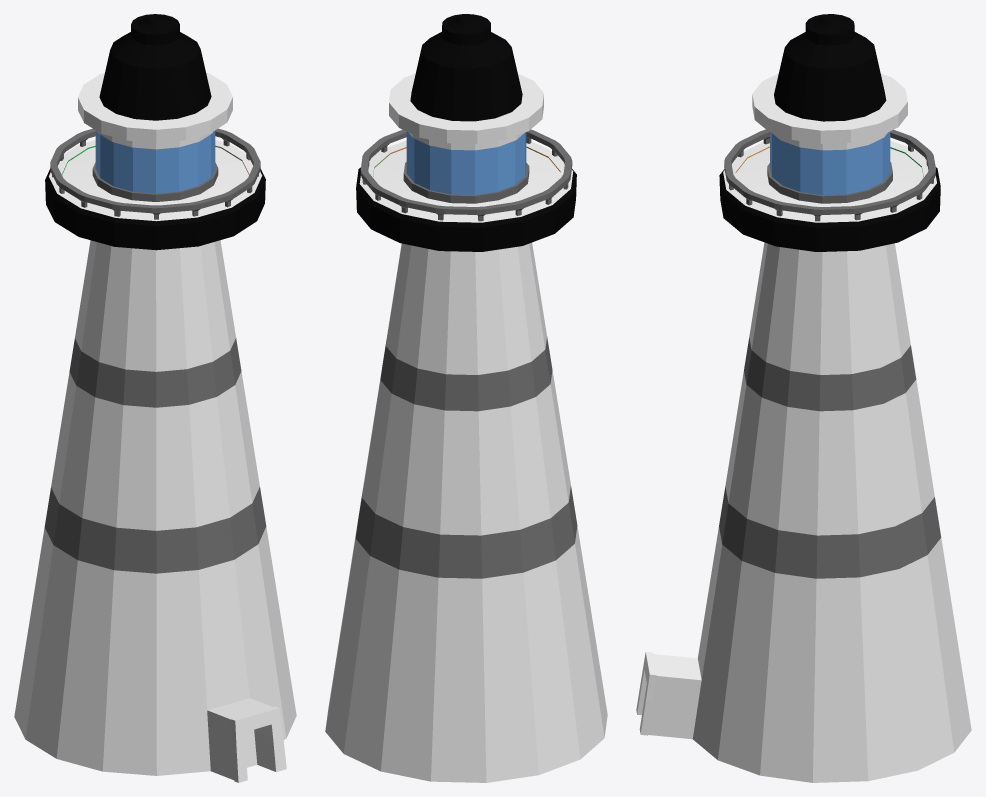
File: Lighthouse.fbx
3 views of the same model, side by side, from view 1: azimuth 30°, elevation 25°; view 2: azimuth 150°, elevation 25°; view 3: azimuth 270°, elevation 25° (orthographic).
Visible parts, largest first — view 1: Lighthouse; view 2: Lighthouse; view 3: Lighthouse.
Boxes of the visible parts, x1,y1,x2,y2 form: Lighthouse: (14, 14, 296, 782); Lighthouse: (325, 14, 607, 782); Lighthouse: (636, 14, 971, 782).
Size of the model in its own units: 1367 by 3757 by 1619.
